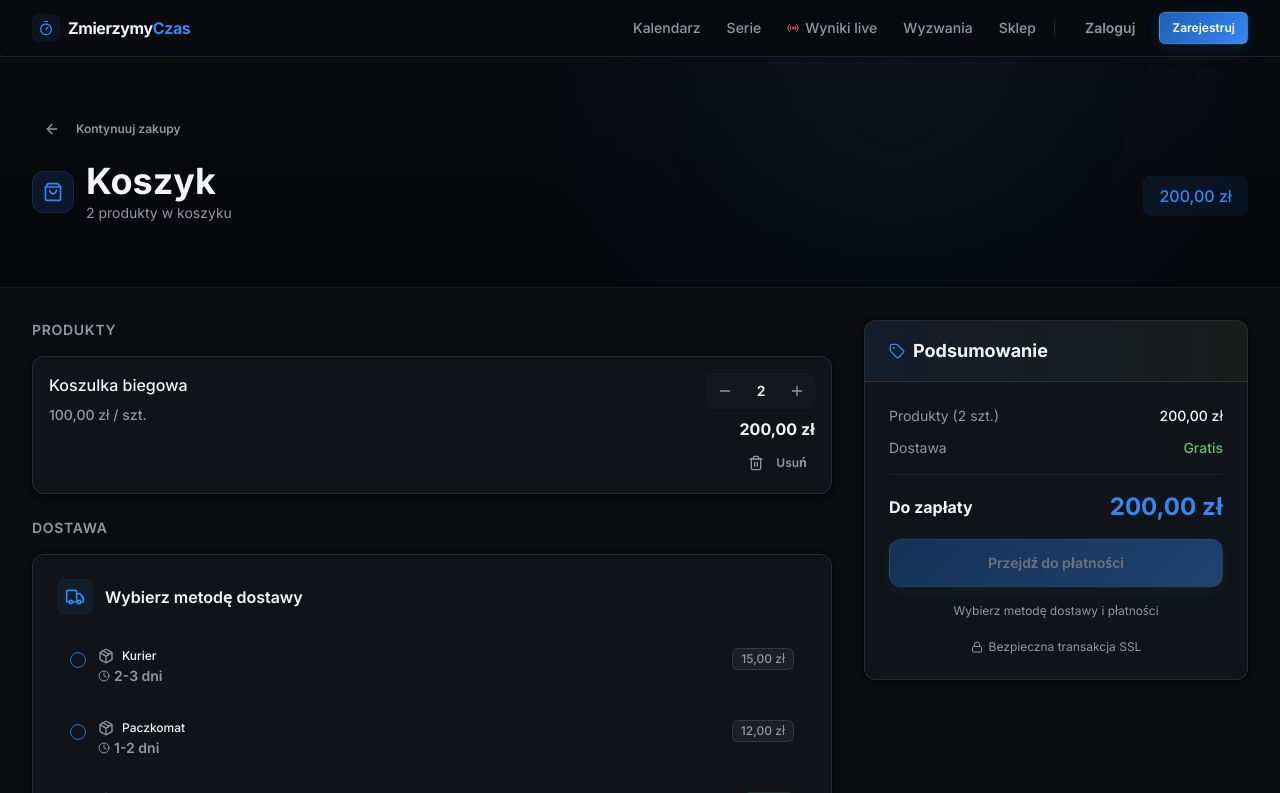
Test: CartPage checkout › shows a visible, accessible error for an empty required field once it has been touched
Click the text "Kurier" at (130, 656), box left=98, top=648, right=162, bottom=664
(page scrolled)
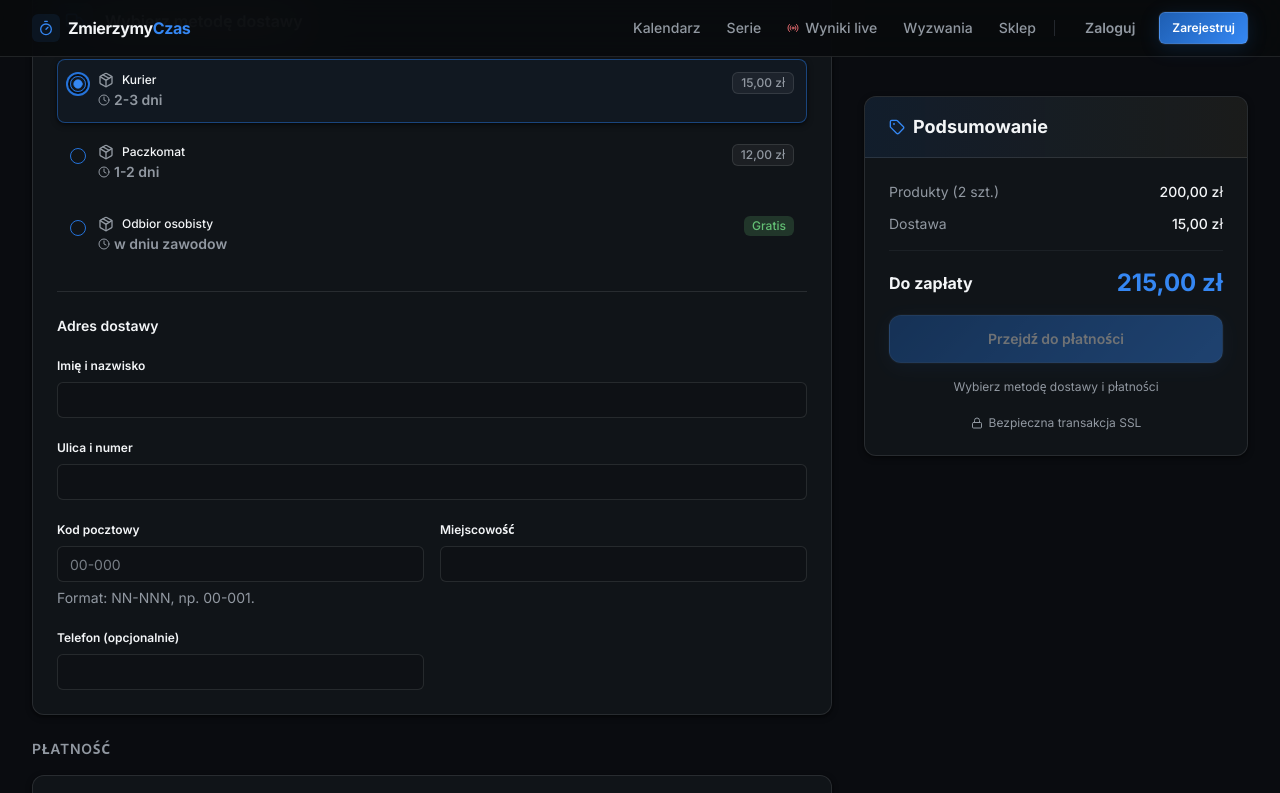
Expected: the text "Podaj imię i nazwisko." is not shown
Click the field labelled "Imię i nazwisko" at (432, 400), box left=57, top=382, right=807, bottom=418
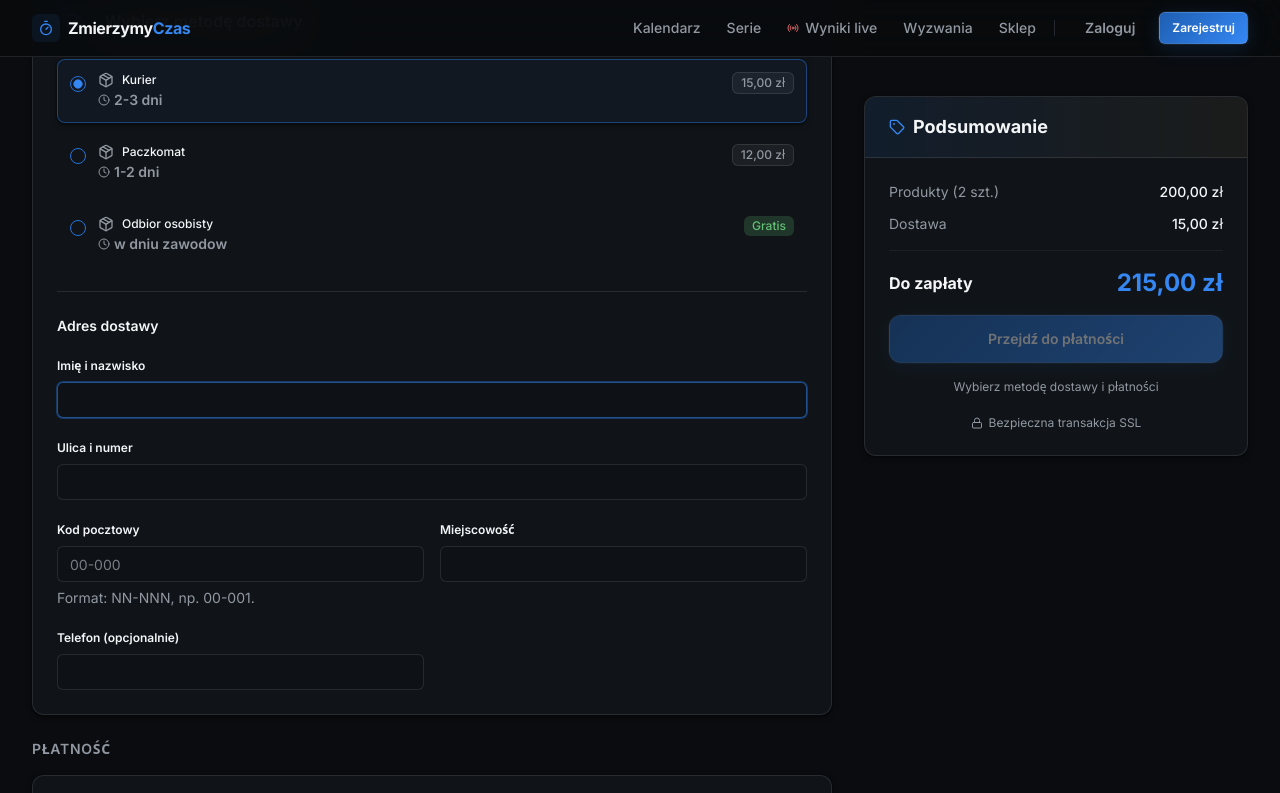
Press Tab
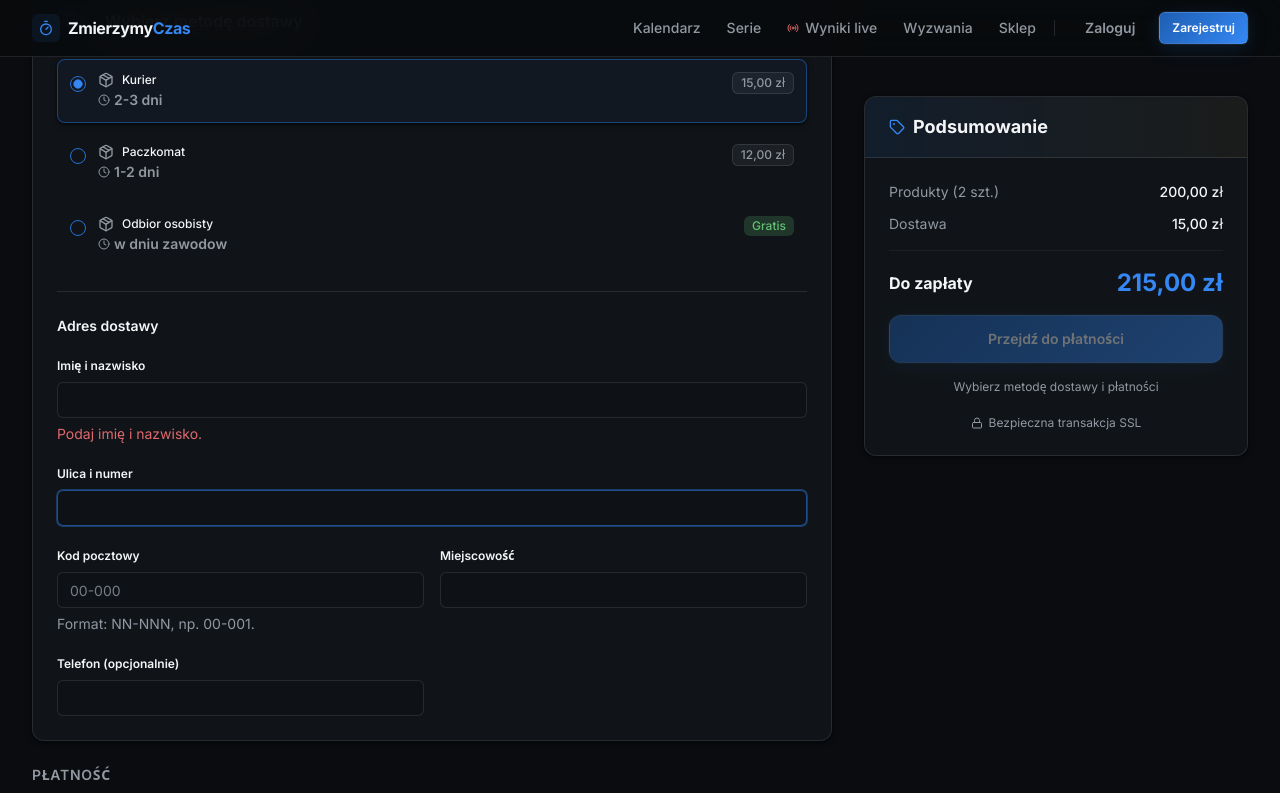
Expected: the text "Podaj imię i nazwisko." is shown, left=57, top=425, right=202, bottom=442
